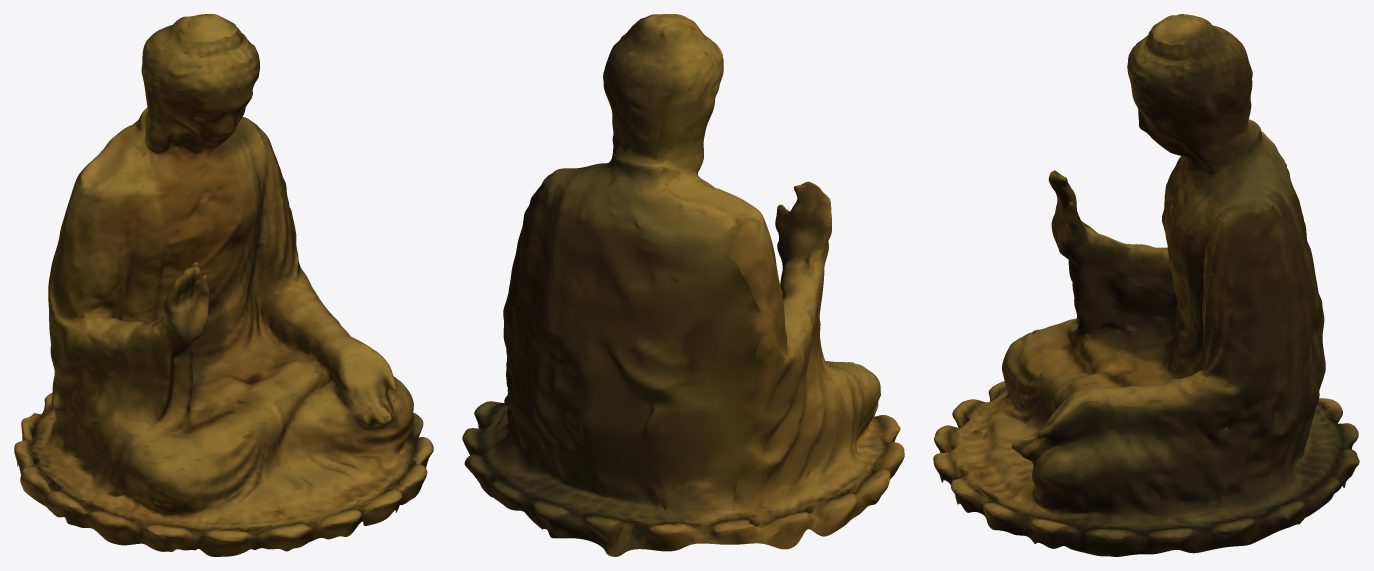
The model's file is tiantan-buddha.glb.
The picture shows the model from 3 angles, left to right: view 1: azimuth 30°, elevation 25°; view 2: azimuth 150°, elevation 25°; view 3: azimuth 270°, elevation 25°; orthographic projection. The views are drawn at different scales.
Bounding box in the file's own units: 3.27 × 3.81 × 3.24.
Materials: 1 (1 with a texture image).
